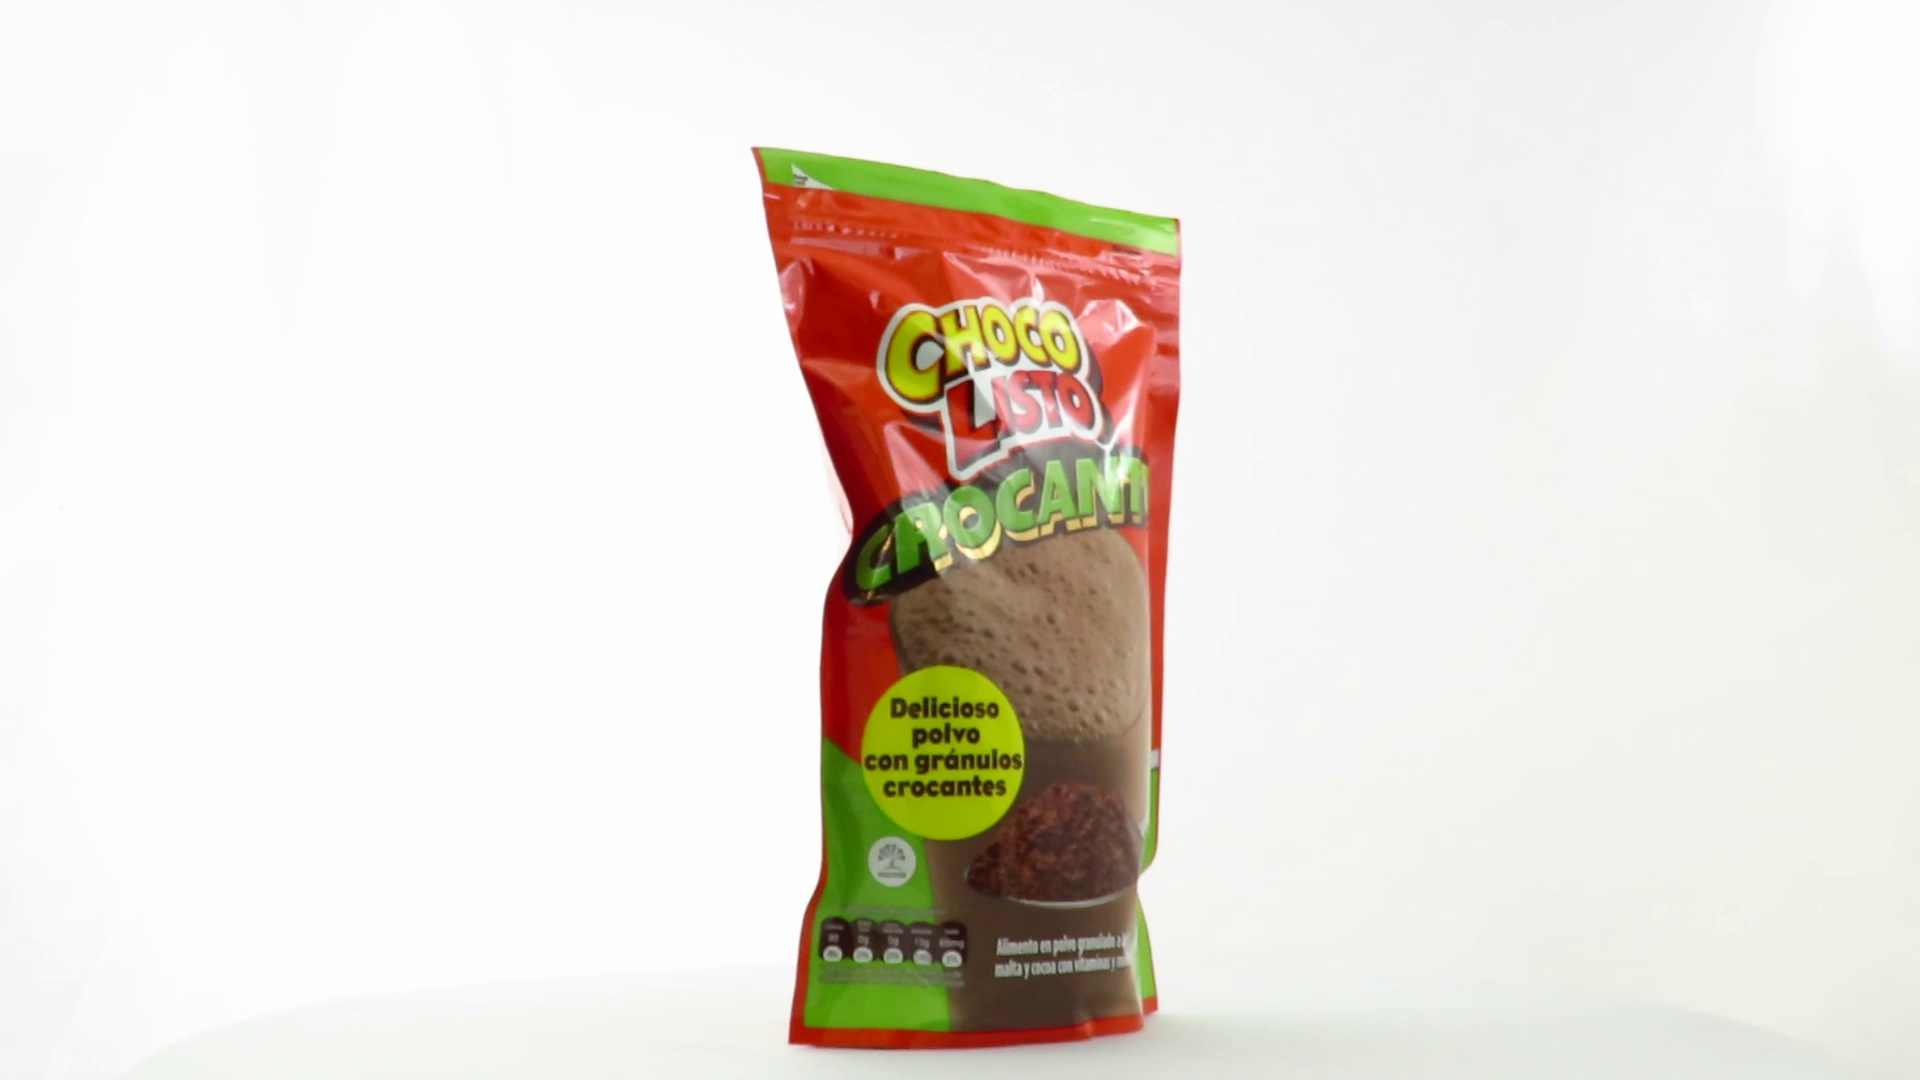COL0170102DYP50000: (746, 142, 1188, 1058)
